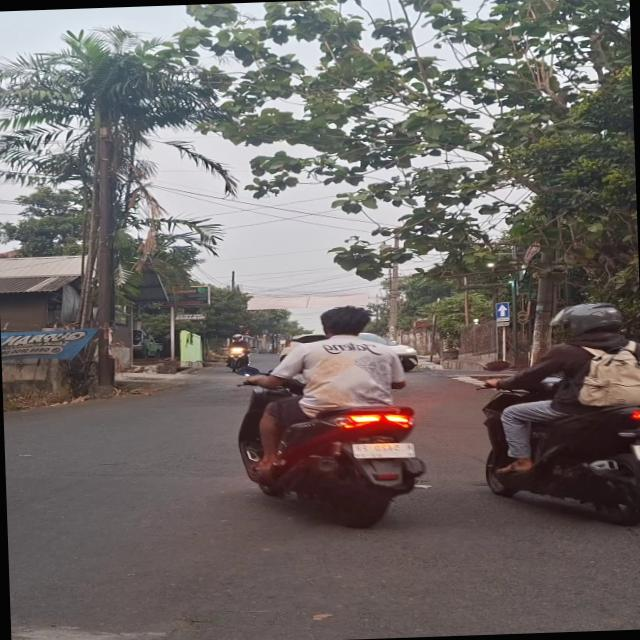WithHelmet: (479, 300, 640, 476), (222, 333, 254, 369)
WithoutHelmet: (229, 304, 428, 534)
